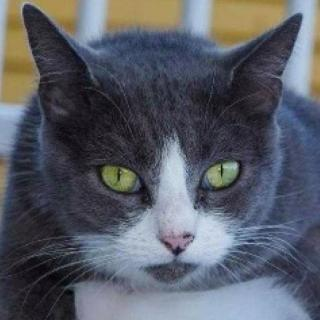cat: (18, 0, 304, 299)
nose: (156, 212, 194, 261)
